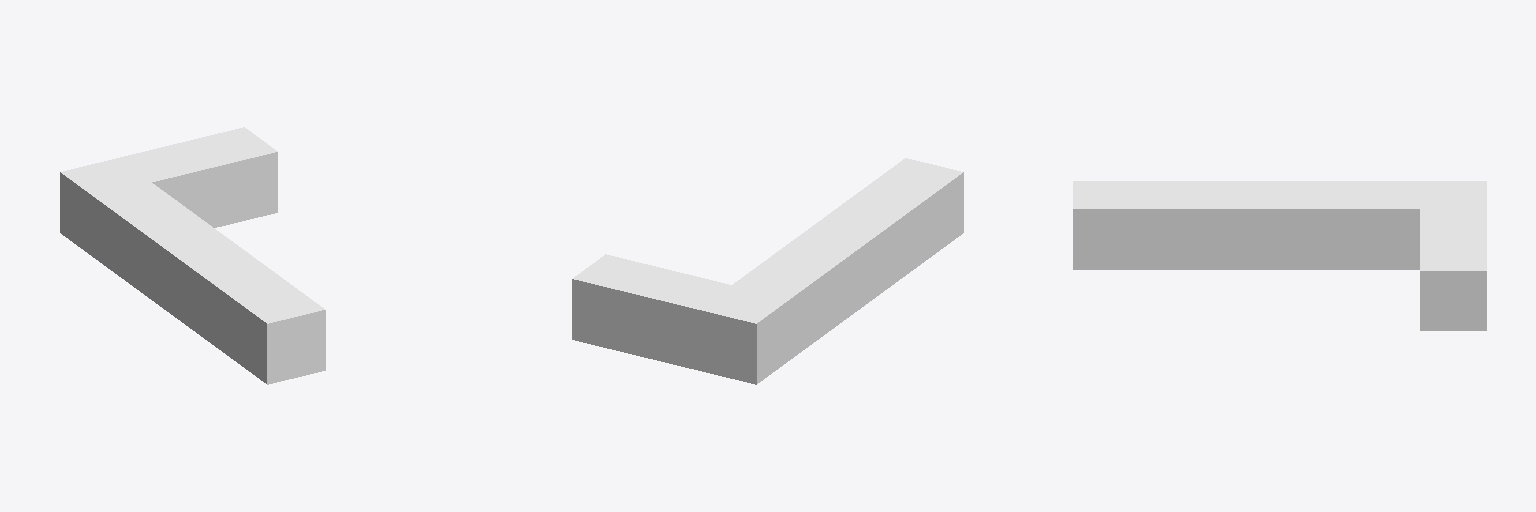
File: humanoid-39.obj
The picture shows the model from 3 angles: view 1: azimuth 30°, elevation 25°; view 2: azimuth 150°, elevation 25°; view 3: azimuth 270°, elevation 25°; orthographic projection.
Visible parts, largest first — view 1: humanoid-39; view 2: humanoid-39; view 3: humanoid-39.
Boxes of the visible parts, x1=… form: humanoid-39: x1=60, y1=127, x2=325, y2=384; humanoid-39: x1=572, y1=158, x2=963, y2=384; humanoid-39: x1=1073, y1=181, x2=1486, y2=330.
Size of the model in its own units: 19 by 6 by 37.